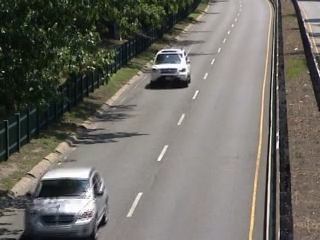car: (19, 165, 111, 240), (146, 46, 199, 92)
